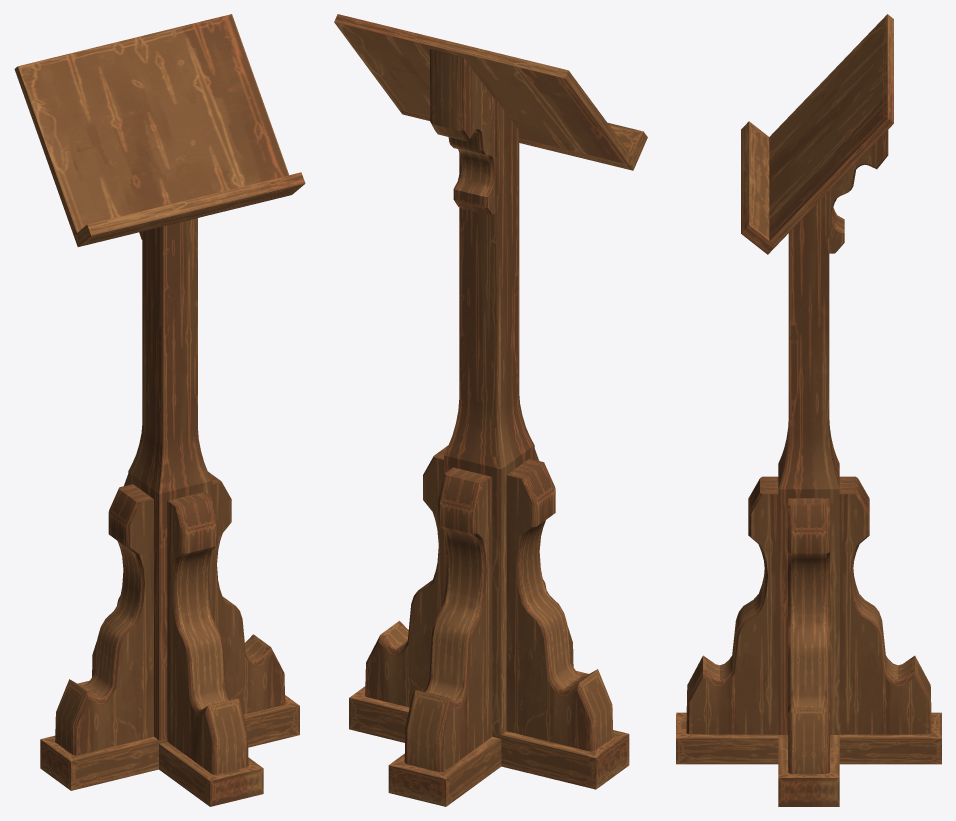
The model's file is BookStand.fbx.
3 views of the same model, side by side, from view 1: azimuth 30°, elevation 25°; view 2: azimuth 150°, elevation 25°; view 3: azimuth 270°, elevation 25° (orthographic). The views are drawn at different scales.
Visible parts, largest first — view 1: BookStand; view 2: BookStand; view 3: BookStand.
Part boxes in pixels (box(x1,y1,x2,y2)): BookStand: box(14, 14, 305, 806); BookStand: box(334, 14, 647, 806); BookStand: box(676, 14, 941, 806).
Size of the model in its own units: 50.71 by 145 by 51.12.
